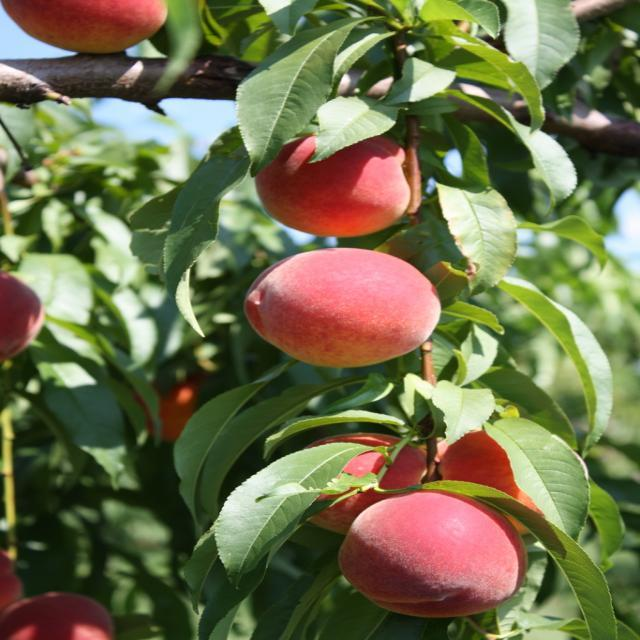Peach: (243, 245, 441, 371), (341, 490, 531, 621), (256, 132, 408, 237), (297, 430, 433, 534), (437, 427, 545, 531), (0, 0, 166, 54), (0, 594, 104, 640), (131, 369, 199, 438), (0, 271, 37, 366), (0, 550, 22, 608)
